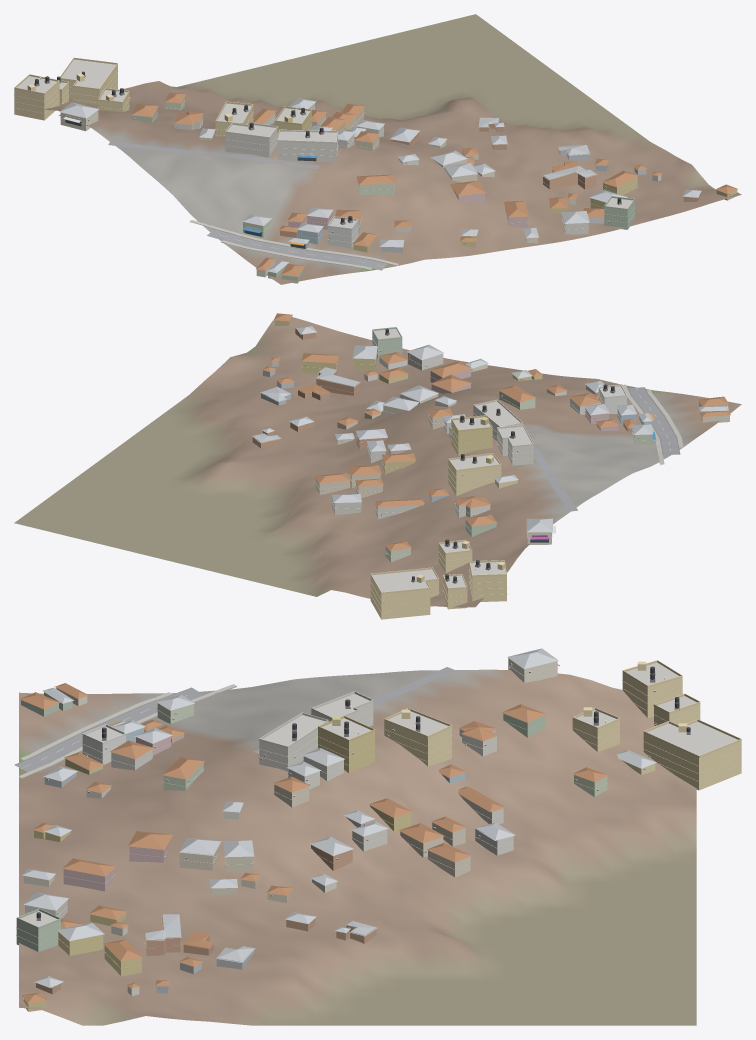
The picture shows the model from 3 angles, top to bottom: view 1: azimuth 30°, elevation 25°; view 2: azimuth 150°, elevation 25°; view 3: azimuth 270°, elevation 25°; orthographic projection. The views are drawn at different scales.
Parts seen in each view (by area): view 1: Terrain-col, Buildings-col, Details, Roads-col, Sidewalks-col; view 2: Terrain-col, Buildings-col, Details, Roads-col, Sidewalks-col; view 3: Terrain-col, Buildings-col, Details, Roads-col, Sidewalks-col.
Part boxes in pixels (left/top/right/bottom): Terrain-col: left=44, top=14, right=741, bottom=284; Buildings-col: left=14, top=59, right=737, bottom=283; Details: left=14, top=57, right=730, bottom=248; Roads-col: left=108, top=141, right=387, bottom=270; Sidewalks-col: left=189, top=220, right=398, bottom=269; Terrain-col: left=14, top=317, right=741, bottom=607; Buildings-col: left=252, top=313, right=730, bottom=619; Details: left=302, top=327, right=655, bottom=612; Roads-col: left=532, top=387, right=680, bottom=511; Sidewalks-col: left=621, top=384, right=683, bottom=464; Terrain-col: left=19, top=669, right=696, bottom=1025; Buildings-col: left=16, top=648, right=741, bottom=1011; Details: left=16, top=660, right=741, bottom=1000; Roads-col: left=14, top=667, right=455, bottom=771; Sidewalks-col: left=19, top=684, right=236, bottom=778.
Size of the model in its own units: 265 by 43.63 by 275.
